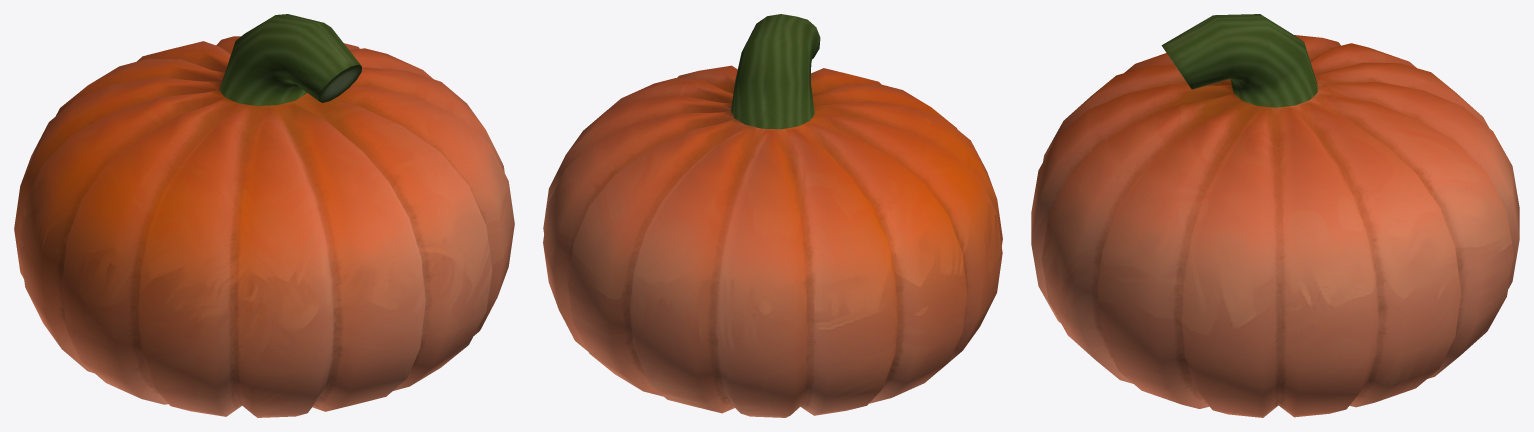
File: pumpkin.glb
3 views of the same model, side by side, from view 1: azimuth 30°, elevation 25°; view 2: azimuth 150°, elevation 25°; view 3: azimuth 270°, elevation 25° (orthographic). The views are drawn at different scales.
Visible parts, largest first — view 1: pumpkin_low; view 2: pumpkin_low; view 3: pumpkin_low.
Part boxes in pixels (x1,y1,x2,y2): pumpkin_low: [14, 14, 514, 417]; pumpkin_low: [543, 14, 1002, 417]; pumpkin_low: [1031, 14, 1519, 417].
Size of the model in its own units: 0.6472 by 0.5128 by 0.6377.
Materials: 1 (1 with a texture image).
